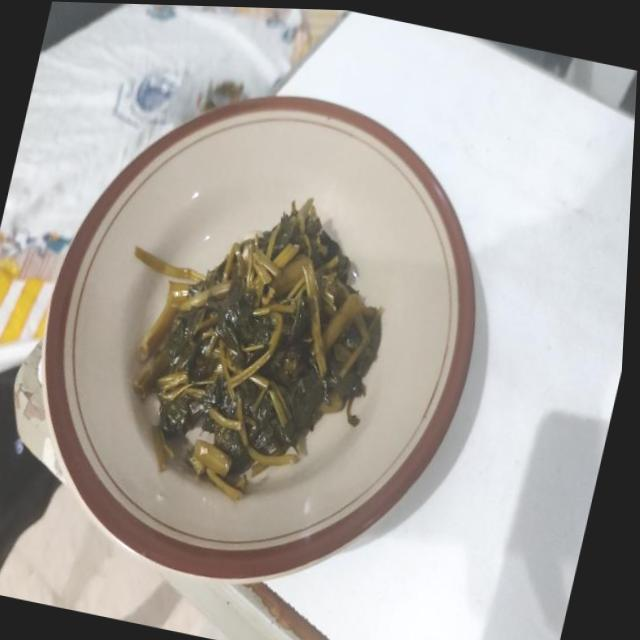tumis_kangkung: (132, 198, 382, 499)
